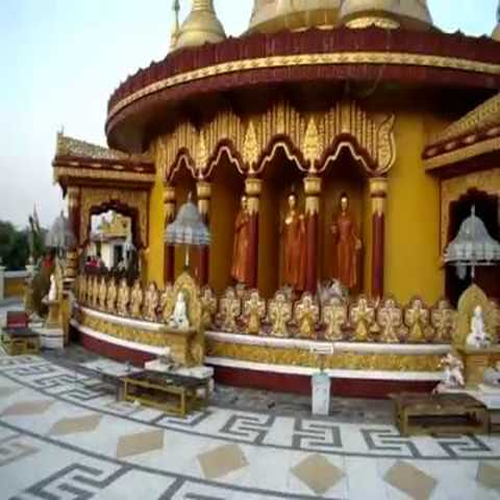Temple: (42, 8, 484, 418)
